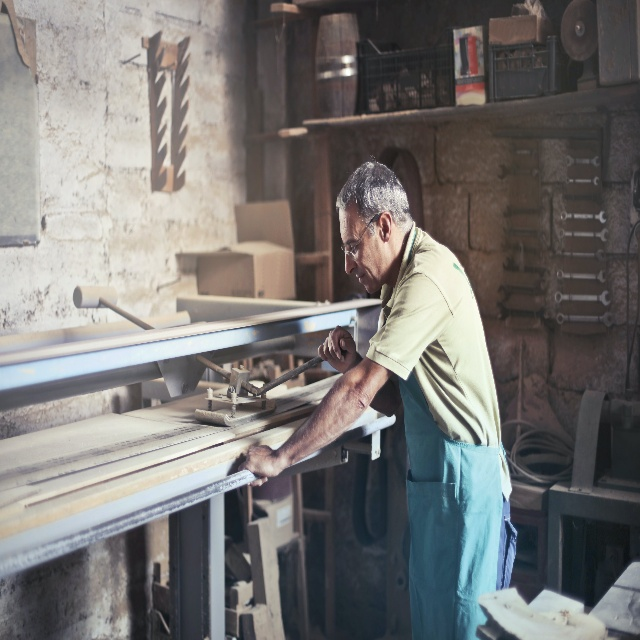Gafas: (341, 214, 378, 259)
Sin_guantes: (317, 324, 357, 375), (238, 443, 279, 488)
